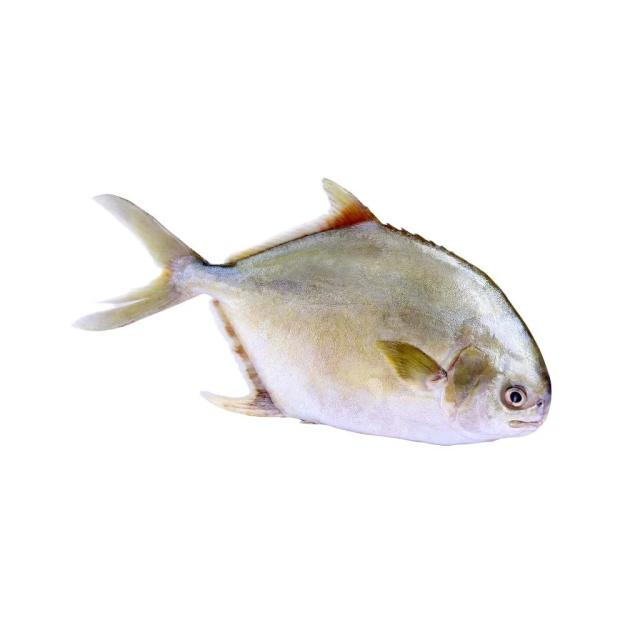pomfred: (56, 184, 551, 445)
